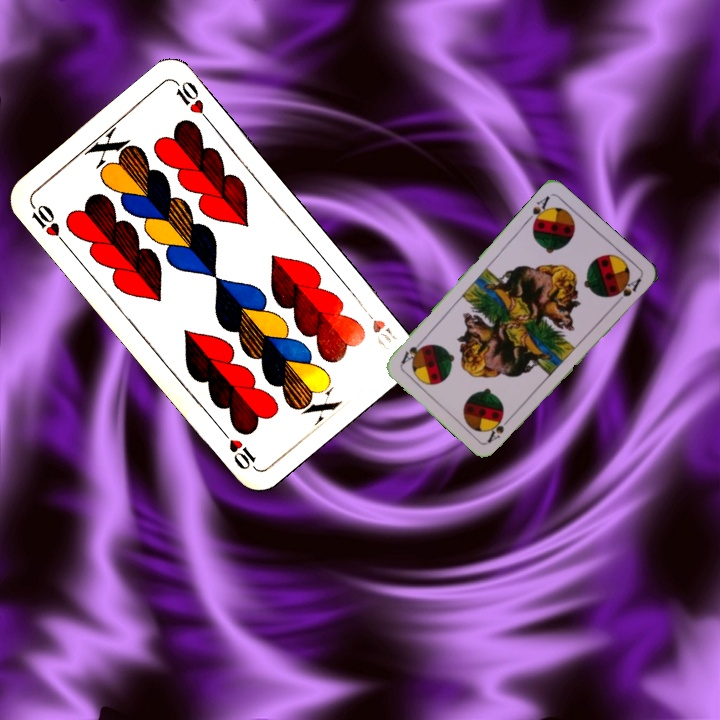H10: (357, 302, 400, 353), (27, 200, 70, 249)
SA: (522, 192, 553, 229), (483, 411, 515, 445)
